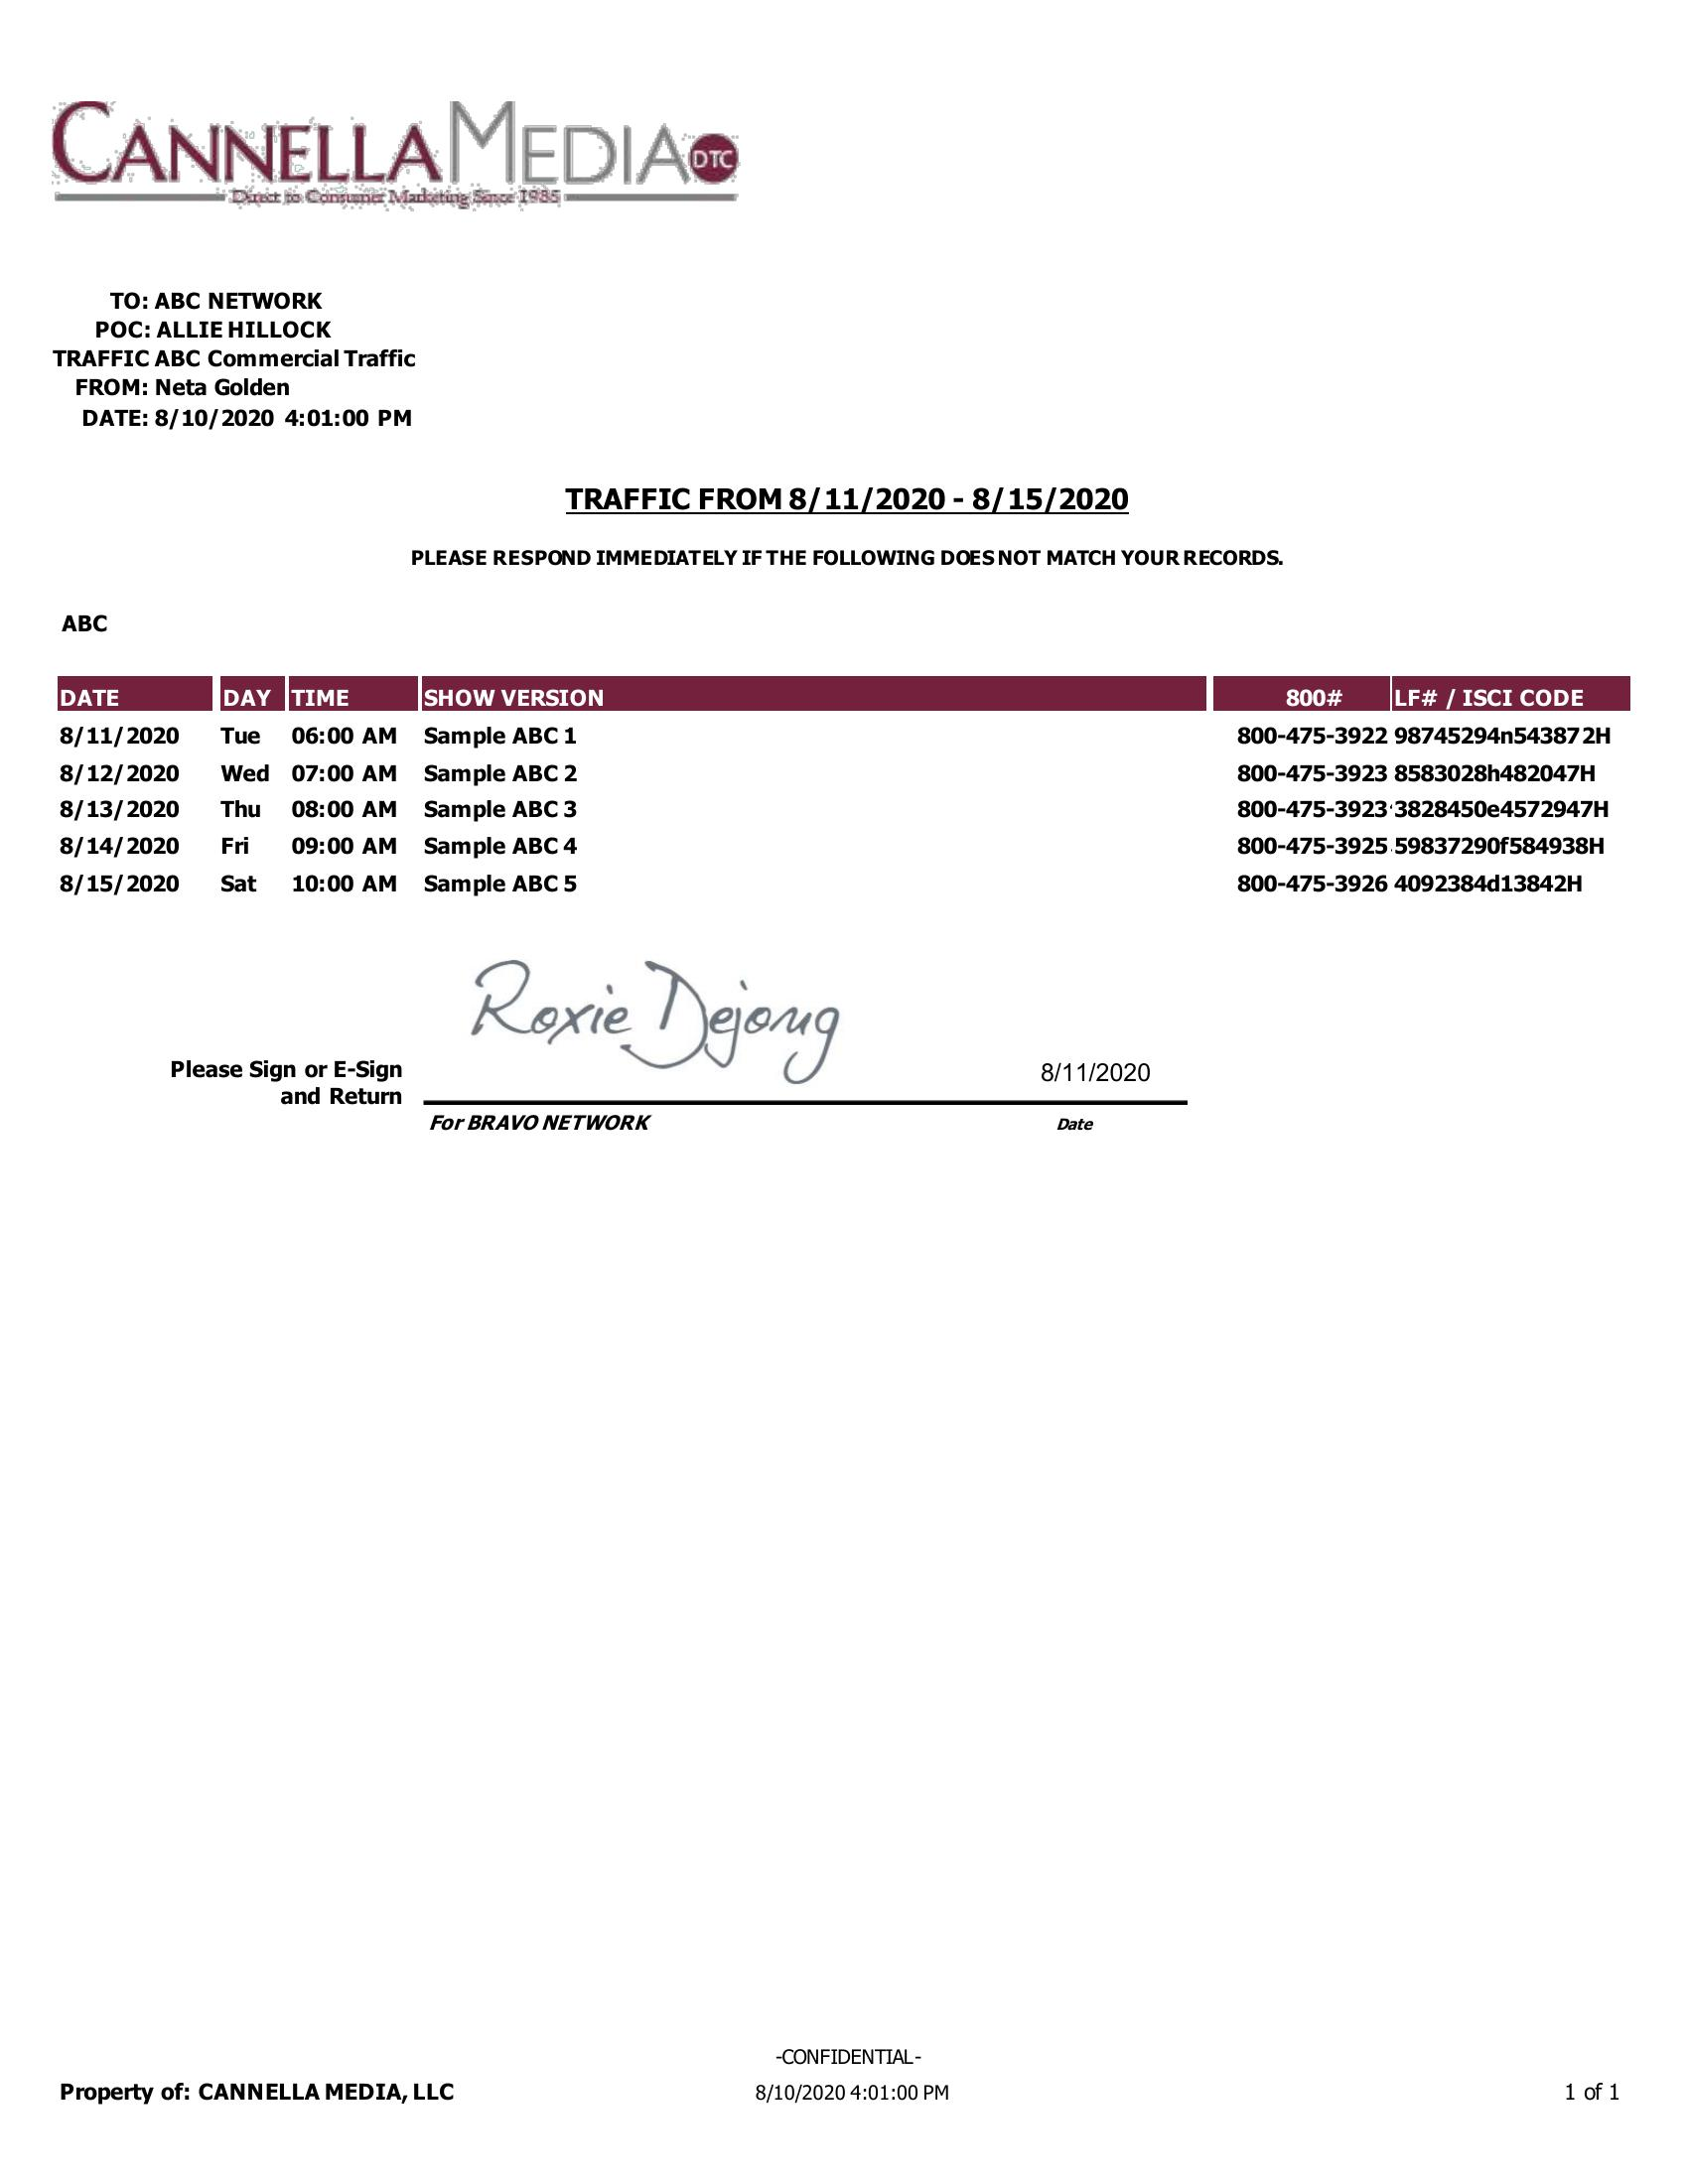table: (41, 651, 1651, 924)
